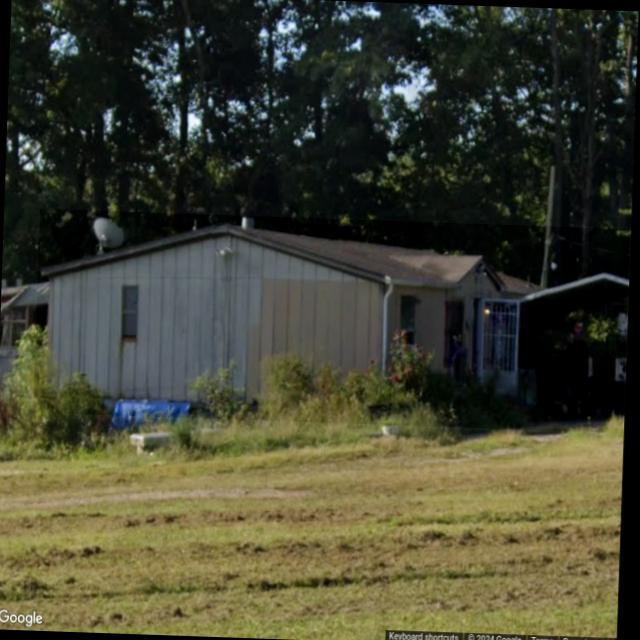House: (33, 208, 629, 433)
